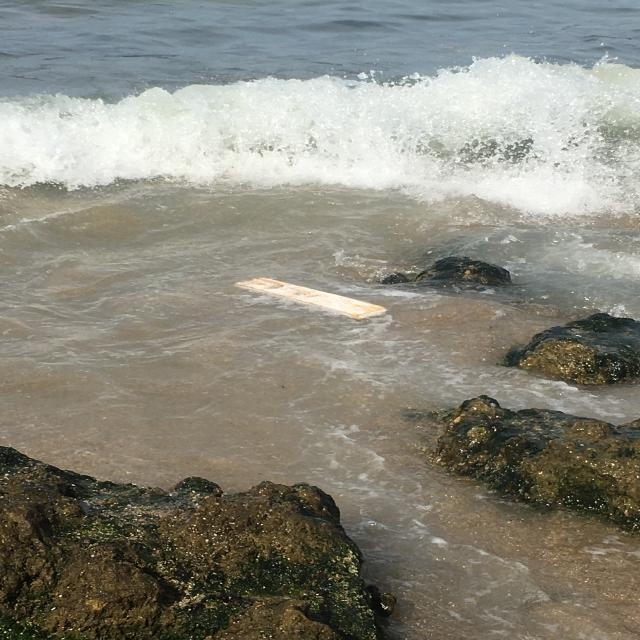Wood: (231, 274, 389, 322)
